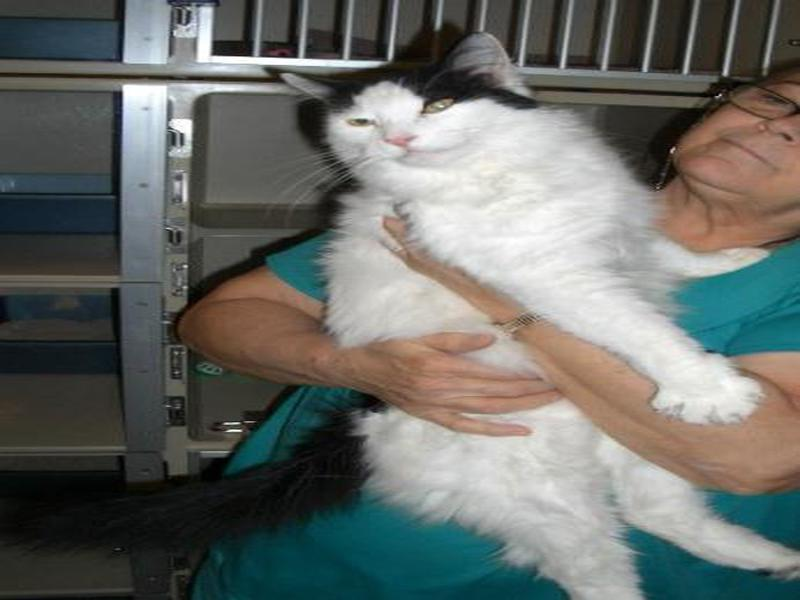cat: (274, 27, 764, 600)
